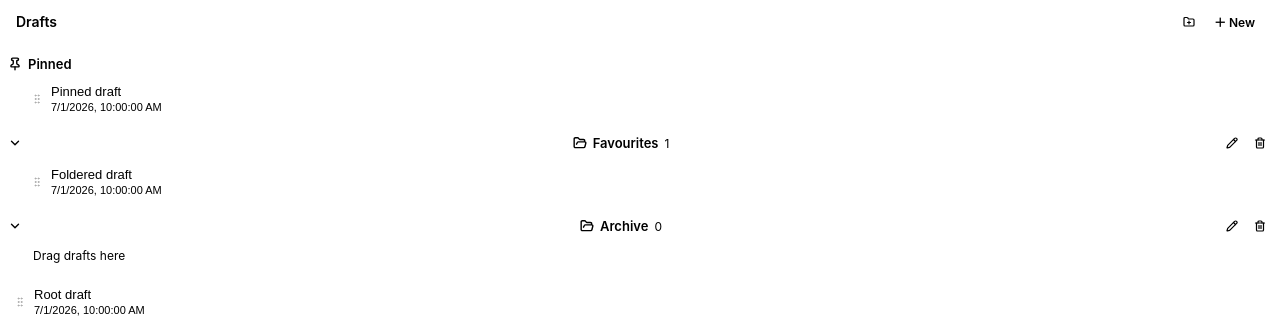
DraftsRail › deletes a folder after confirmation and reports it upward (cascade-deletes its drafts)
Check: the text "Favourites" is shown, box [593, 135, 658, 151]
Click the button named "Delete folder Favourites". click: (1260,143)
box: [1248, 131, 1272, 155]
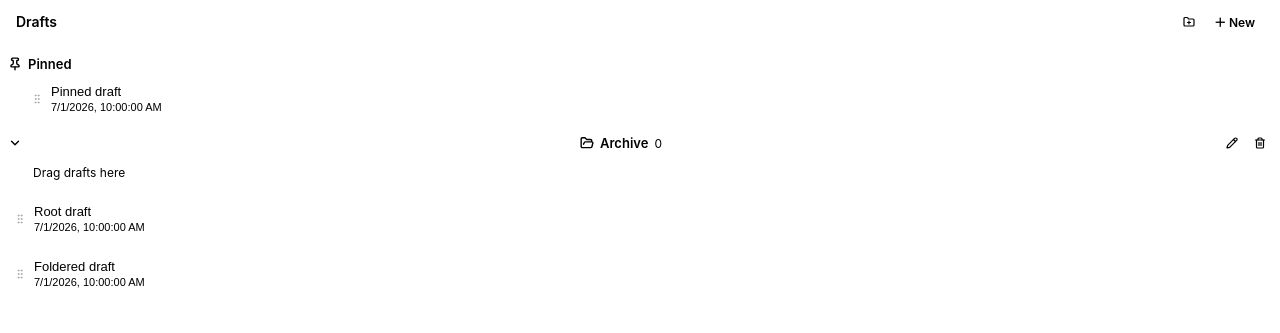
Check: the button "Favourites" is gone
